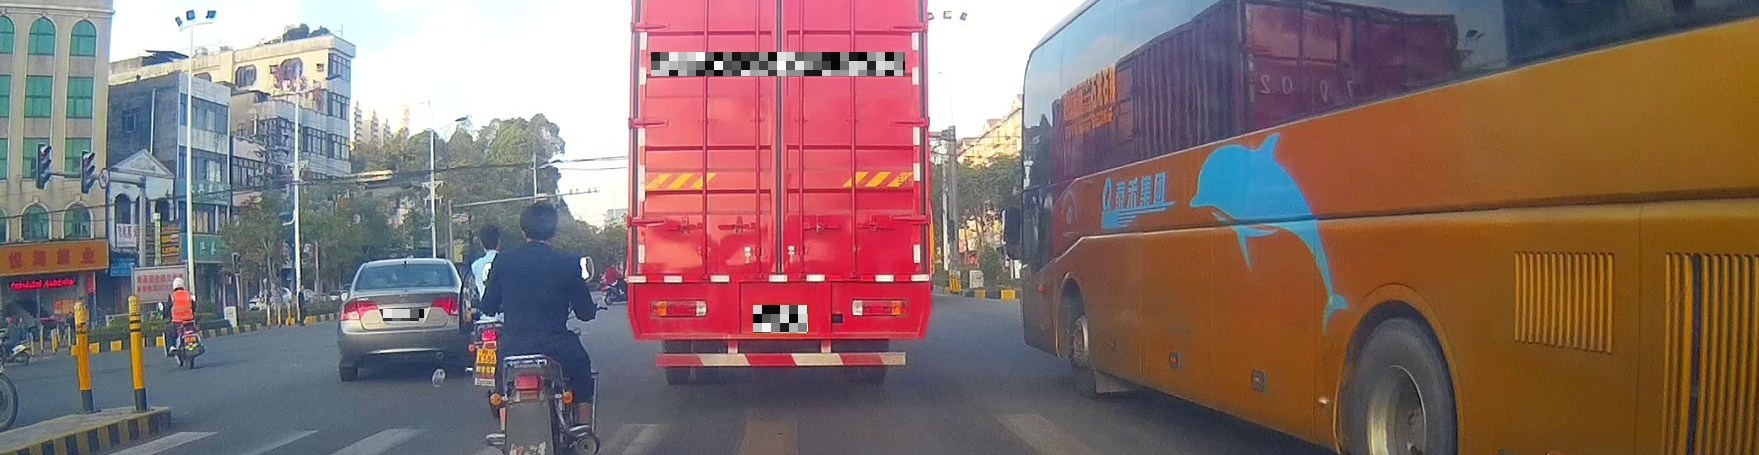L_light: (339, 298, 379, 321)
R_light: (429, 296, 466, 315)
T_light: (397, 262, 416, 268)
day-left: (337, 258, 470, 382)
plate_1: (383, 309, 424, 321)
plate_2: (651, 52, 905, 76)
plate_3: (753, 305, 808, 333)
